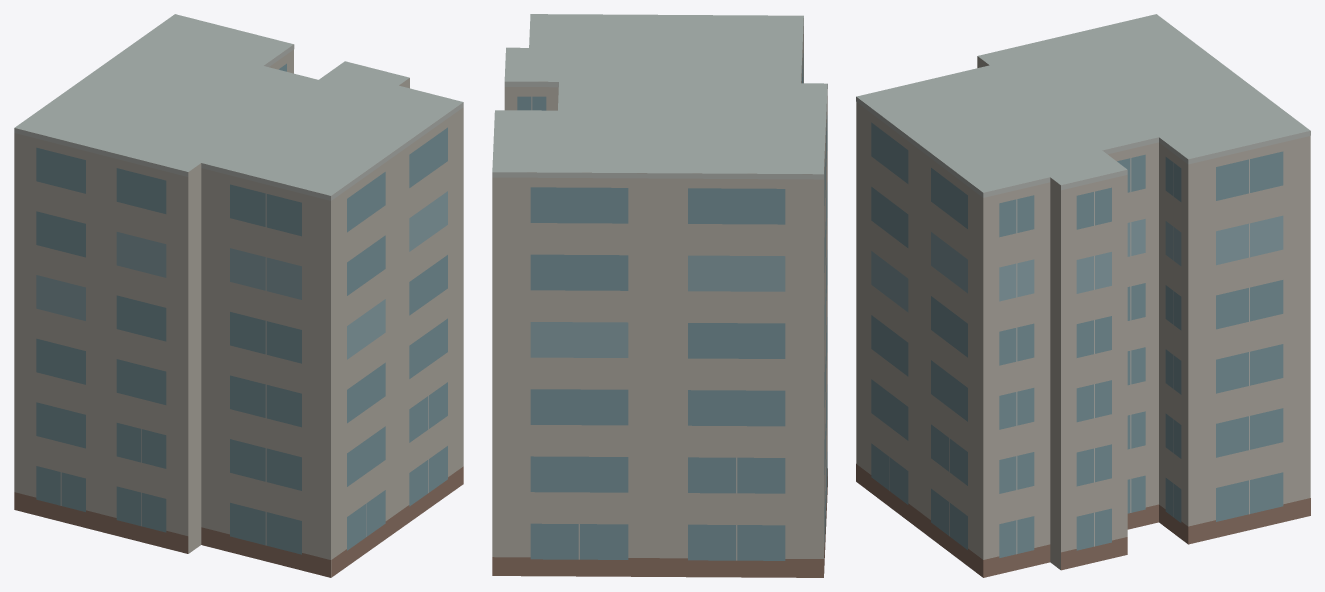
File: survey-upis-32655137.glb
The picture shows the model from 3 angles, left to right: view 1: azimuth 30°, elevation 25°; view 2: azimuth 150°, elevation 25°; view 3: azimuth 270°, elevation 25°; orthographic projection. The views are drawn at different scales.
Parts seen in each view (by area): view 1: survey-upis-32655137.tmp; view 2: survey-upis-32655137.tmp; view 3: survey-upis-32655137.tmp.
Boxes of the visible parts, x1,y1,x2,y2 form: survey-upis-32655137.tmp: (14,14,463,577); survey-upis-32655137.tmp: (492,14,827,577); survey-upis-32655137.tmp: (856,14,1310,577).
Bounding box in the file's own units: 18.33 × 18.4 × 19.7.
